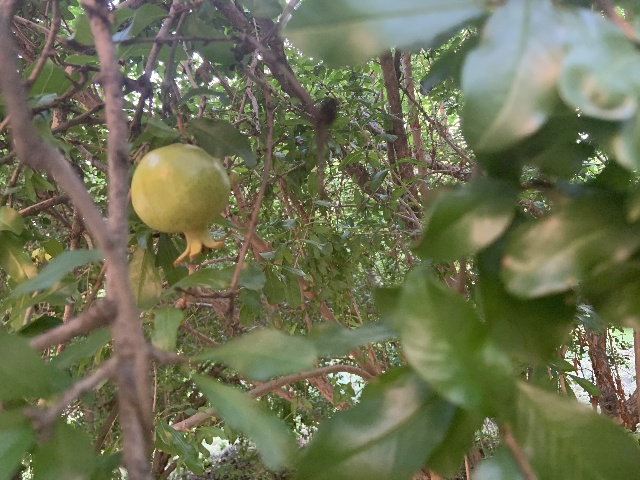mid-growth: (129, 142, 230, 267)
